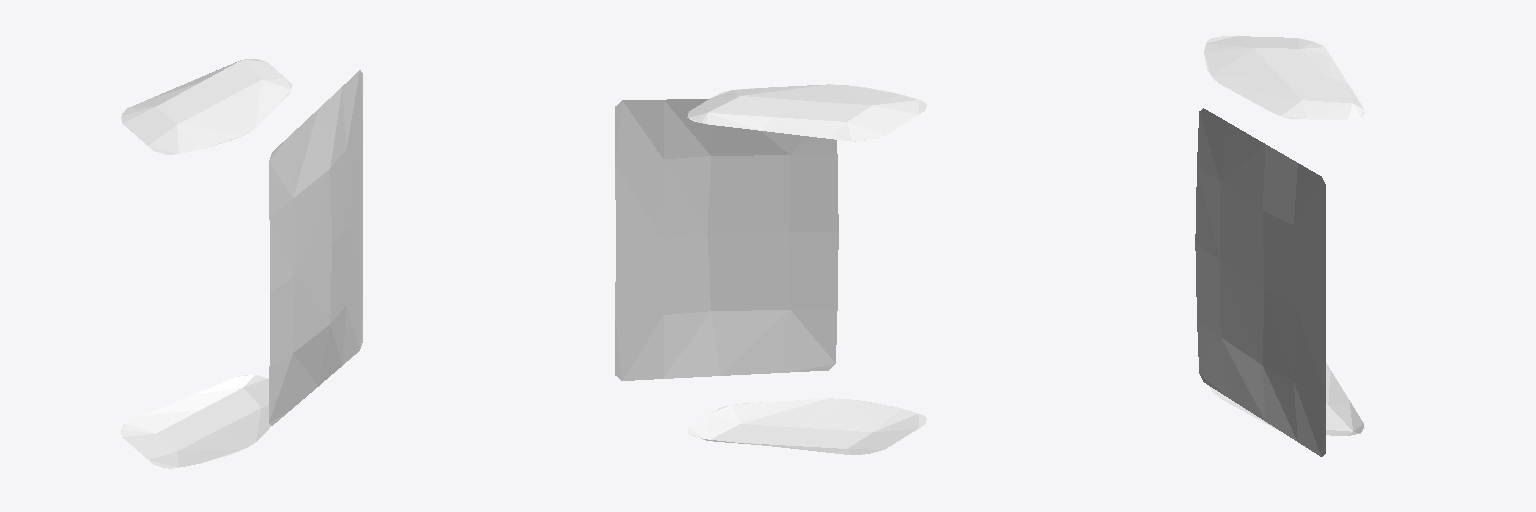
File: EuropeanVan_FrontWindows.obj
The picture shows the model from 3 angles: view 1: azimuth 30°, elevation 25°; view 2: azimuth 150°, elevation 25°; view 3: azimuth 270°, elevation 25°; orthographic projection.
Parts seen in each view (by area): view 1: FrontWindows; view 2: FrontWindows; view 3: FrontWindows.
Part boxes in pixels (x1,y1,x2,y2): FrontWindows: (121,59,362,468); FrontWindows: (615,84,926,454); FrontWindows: (1195,36,1364,456).
Bounding box in the file's own units: 1.48 × 1.79 × 0.8376.